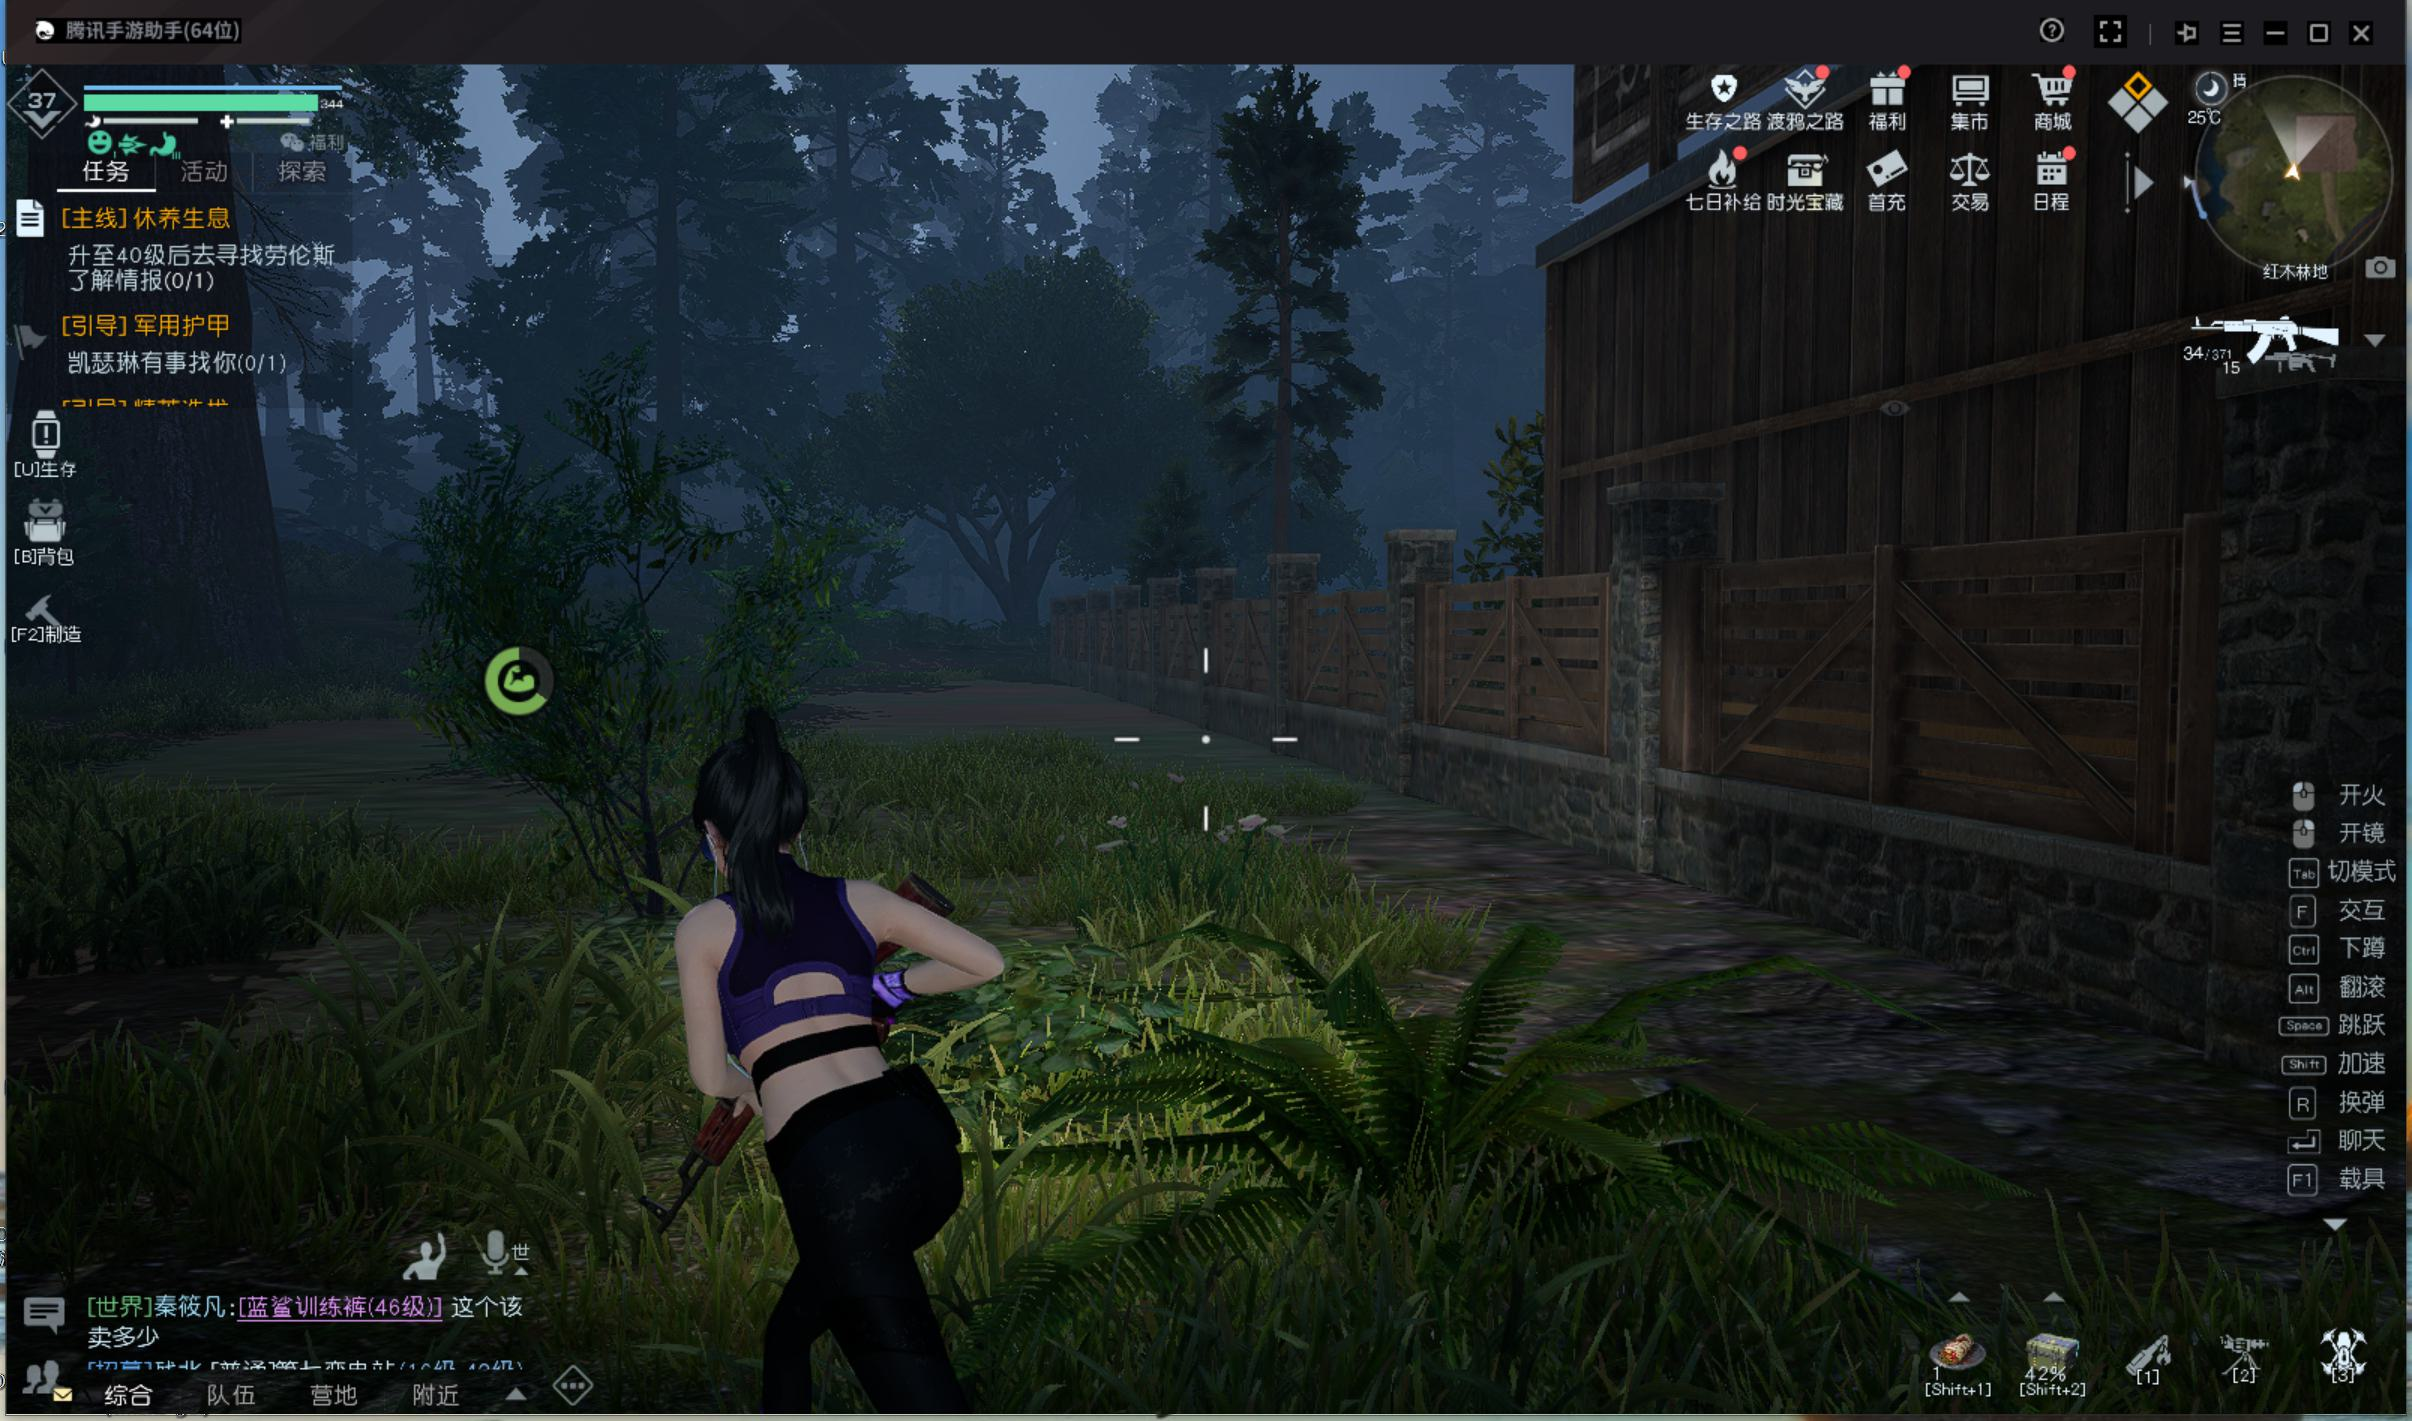tree: (650, 249, 693, 575)
